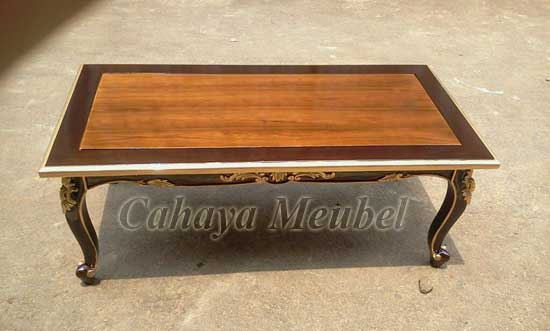Carving Table: (61, 59, 483, 269)
